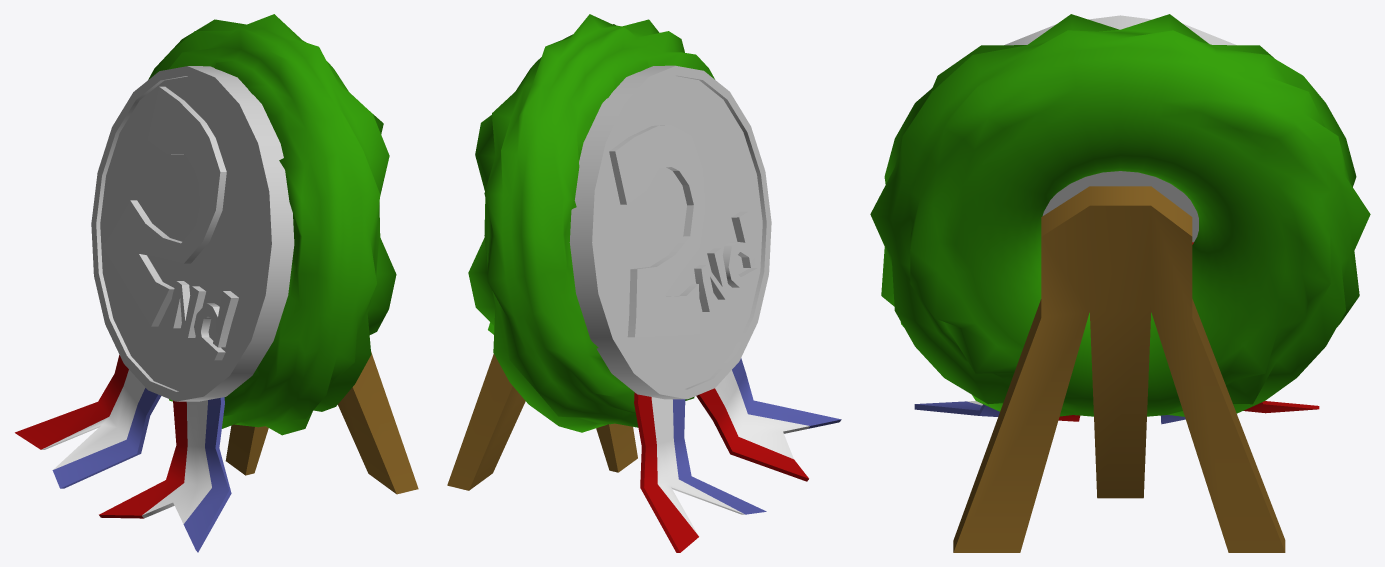
File: medal_lvl1.fbx
3 views of the same model, side by side, from view 1: azimuth 30°, elevation 25°; view 2: azimuth 150°, elevation 25°; view 3: azimuth 270°, elevation 25° (orthographic). The views are drawn at different scales.
Parts seen in each view (by area): view 1: pCube8; view 2: pCube8; view 3: pCube8.
Boxes of the visible parts, x1,y1,x2,y2 form: pCube8: (15,14,418,552); pCube8: (447,14,841,552); pCube8: (870,14,1370,552).
Bounding box in the file's own units: 6.01 × 8.95 × 8.15.
